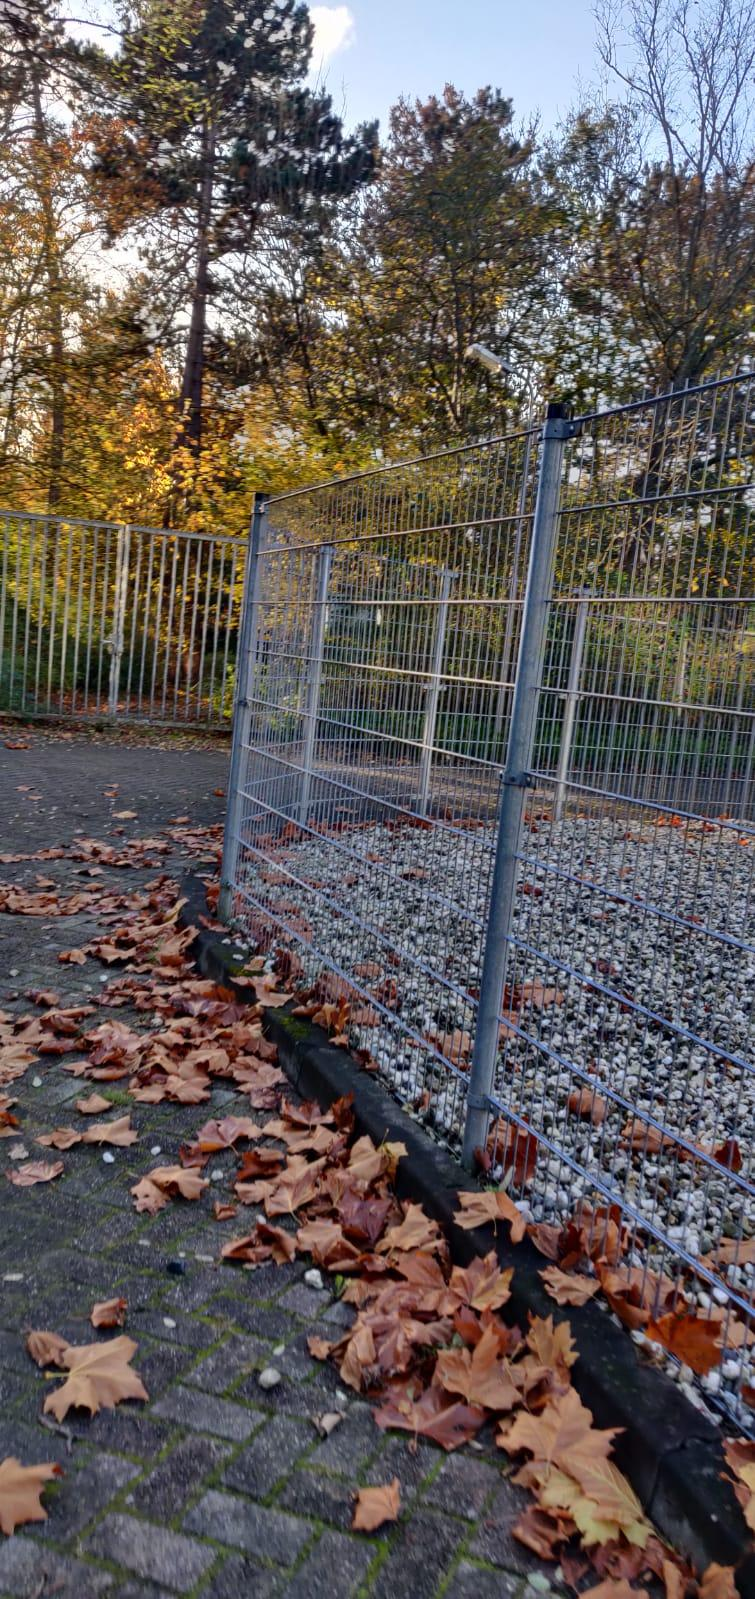obstacle: (69, 364, 755, 1590)
